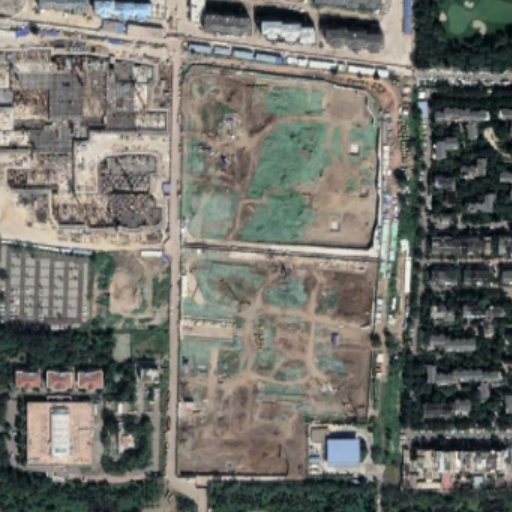cw: (172, 254, 378, 479), (176, 57, 386, 248)
